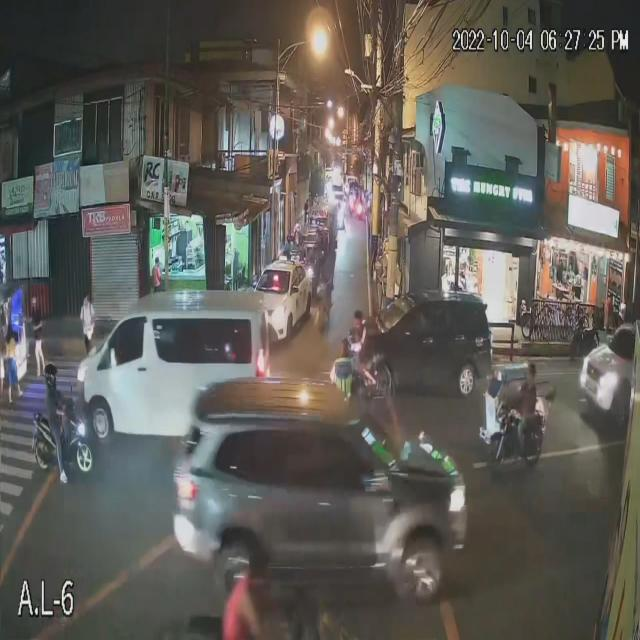Full-Faced: (43, 362, 58, 388)
